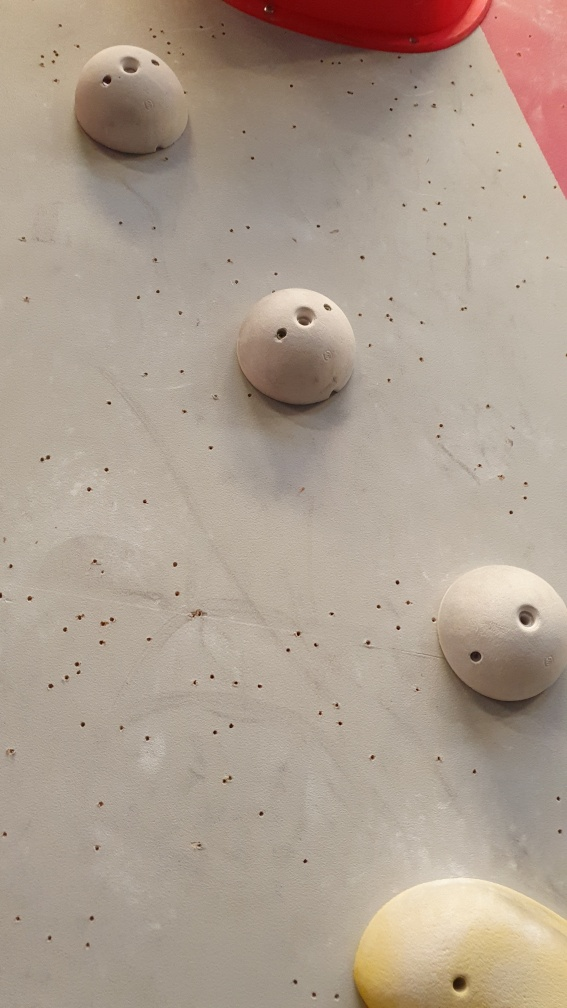Sloper: (435, 562, 564, 706), (238, 281, 360, 407), (73, 39, 194, 155)
